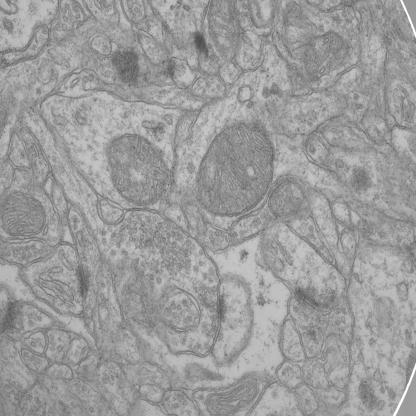mitochondria: (191, 118, 278, 219), (101, 131, 172, 209), (300, 27, 356, 84), (203, 372, 262, 416), (0, 186, 47, 238), (205, 0, 241, 65), (268, 176, 310, 224)
